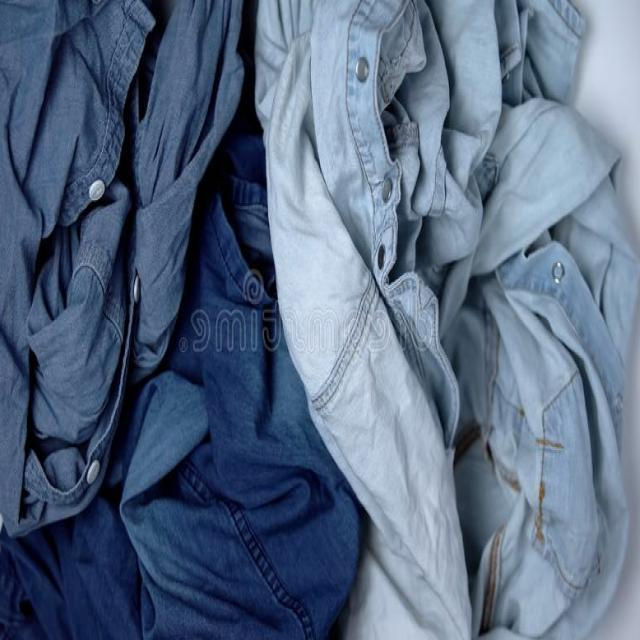clothes: (36, 24, 599, 584)
